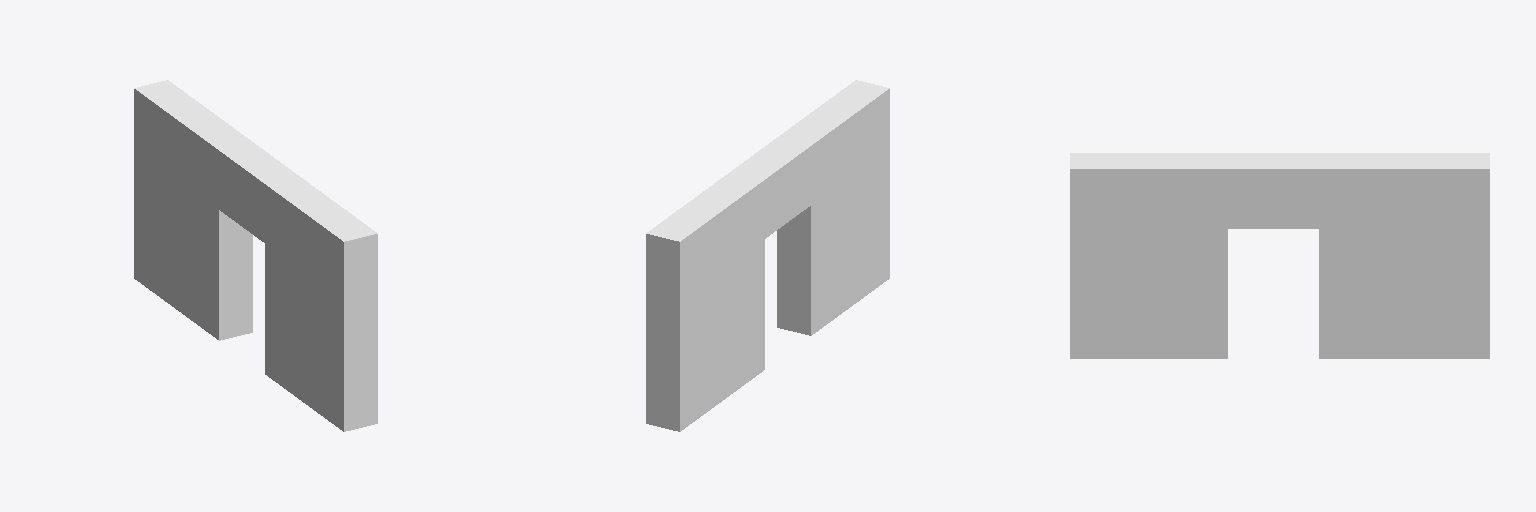
File: WallWithDoorHole.obj
3 views of the same model, side by side, from view 1: azimuth 30°, elevation 25°; view 2: azimuth 150°, elevation 25°; view 3: azimuth 270°, elevation 25° (orthographic).
Bounding box in the file's own units: 3 × 16 × 32.